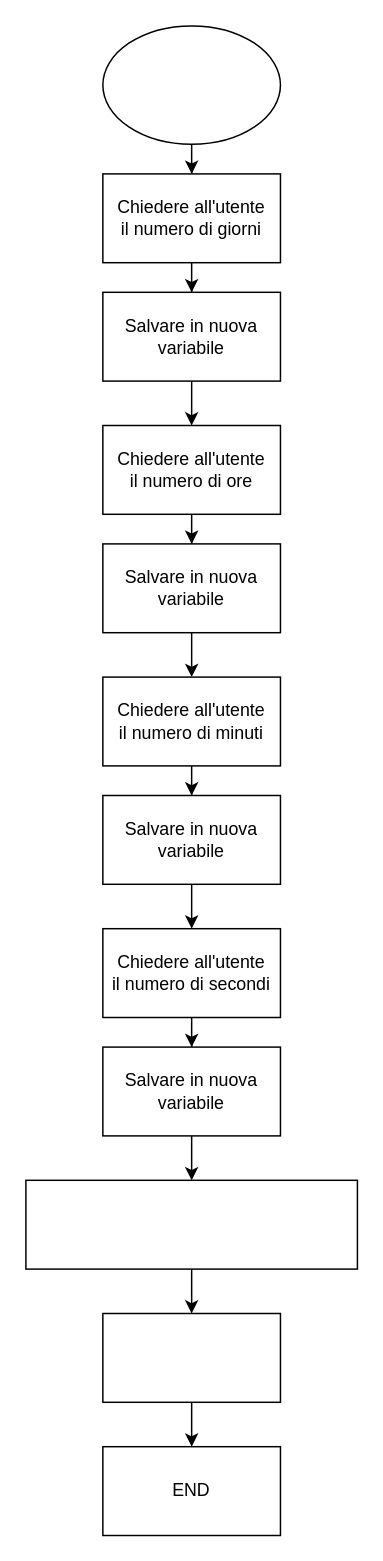
Image size: 383x1561. Some labels were removed from this diagram. Here are the shapes that lost their labels. From the top down, the centre of each, then its label:
At (190,84): "START".
At (190,1224): "Calcolare il numero totale di secondi come giorni*24*3600+ore*3600+minuti*60+60".
At (190,1357): "Stampare a video la lista degli input e il totale dei secondi".
